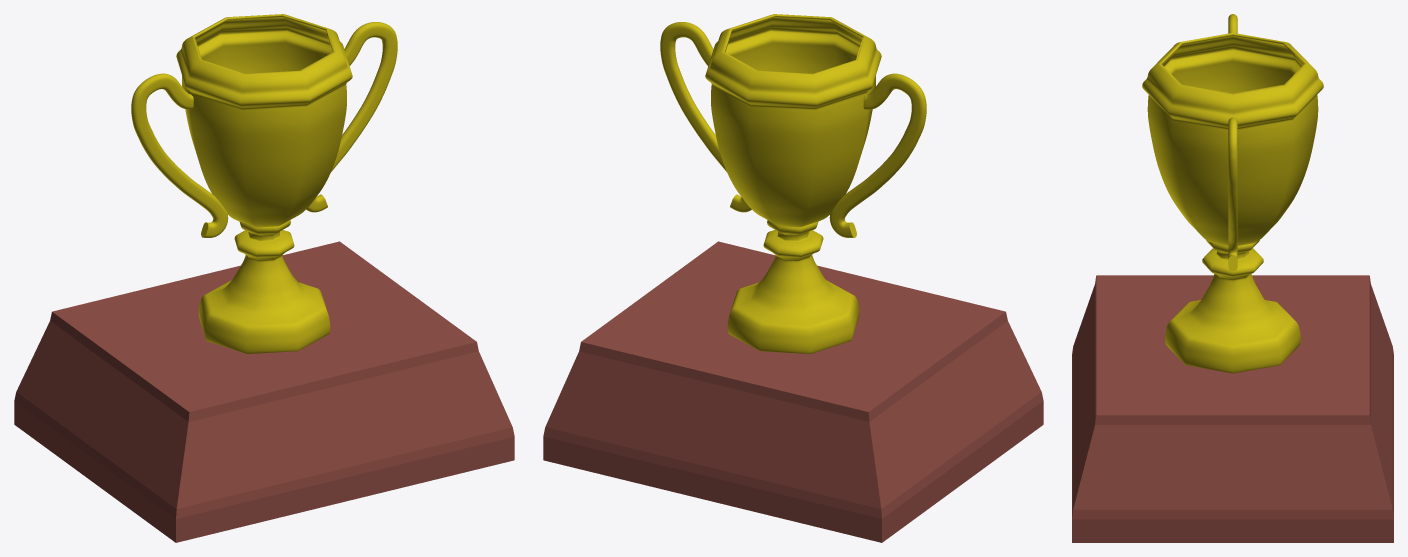
Rendered from lowpoly_trophy.glb.
3 views of the same model, side by side, from view 1: azimuth 30°, elevation 25°; view 2: azimuth 150°, elevation 25°; view 3: azimuth 270°, elevation 25° (orthographic).
Visible parts, largest first — view 1: Trophy; view 2: Trophy; view 3: Trophy.
Part boxes in pixels (x1,y1,x2,y2): Trophy: (14,14,514,542); Trophy: (543,14,1043,542); Trophy: (1072,14,1393,542).
Bounding box in the file's own units: 7.93 × 8.93 × 6.56.
